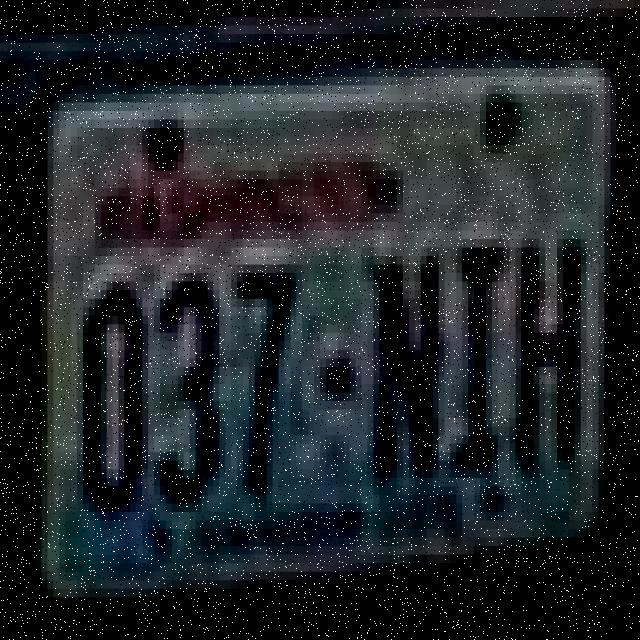licenseplate: (18, 52, 618, 602)
